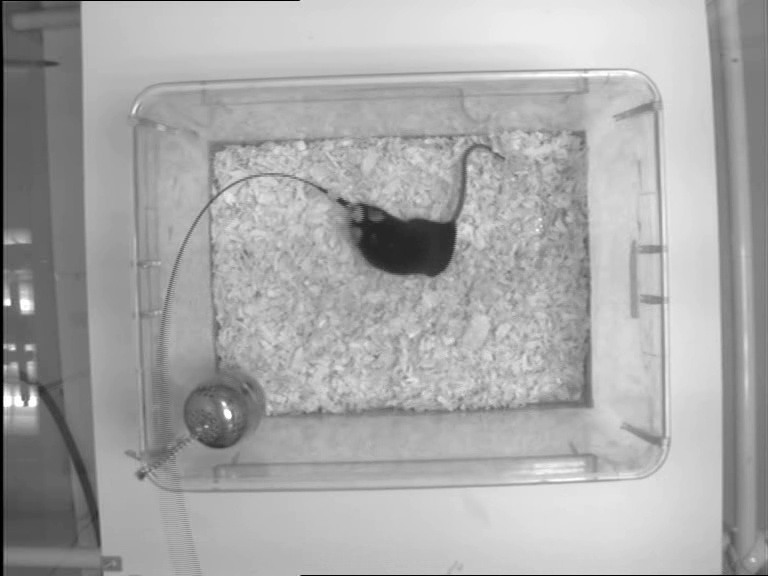mice: (347, 143, 505, 278)
